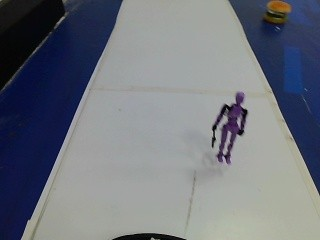burger: (257, 0, 294, 24)
pedestrian: (209, 86, 253, 168)
